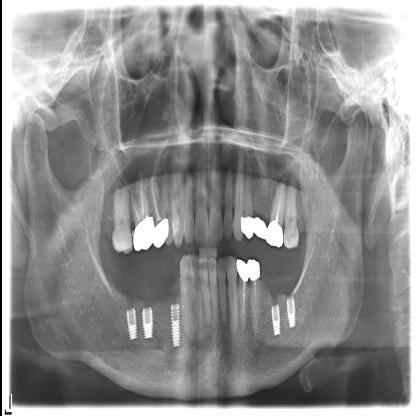Bicon: (168, 302, 178, 346), (140, 304, 150, 340), (124, 310, 136, 340), (284, 294, 294, 327), (270, 305, 278, 335)
